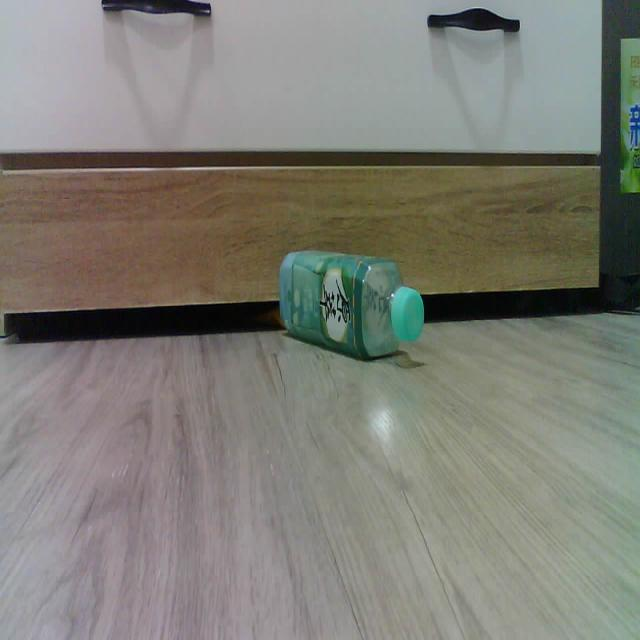bottle: (280, 251, 424, 359)
